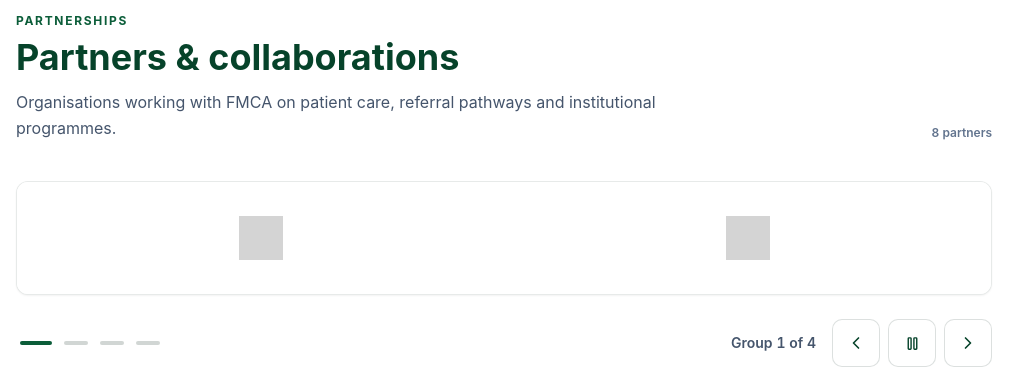
partners home section › reclaims the group index when a wider viewport leaves fewer groups
Expected: the text "Group 1 of 4" is shown, [731, 333, 816, 353]
Click the button named "Next partner group": [968, 343] box [944, 319, 992, 367]
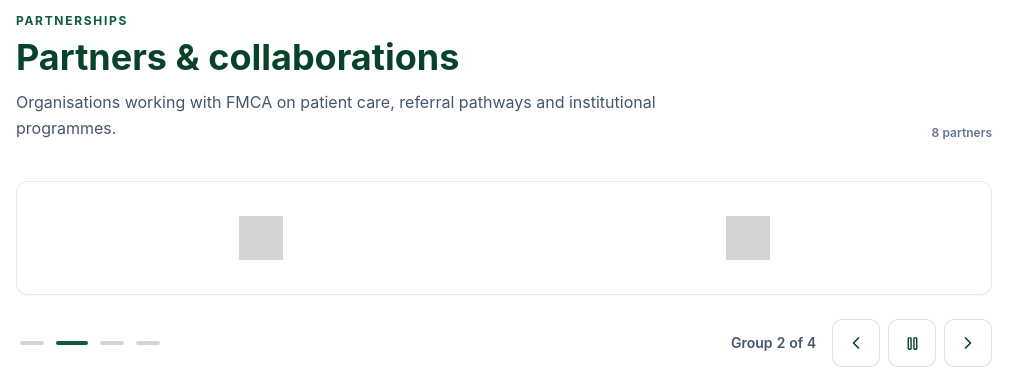
Click the button named "Next partner group": [968, 343] box [944, 319, 992, 367]
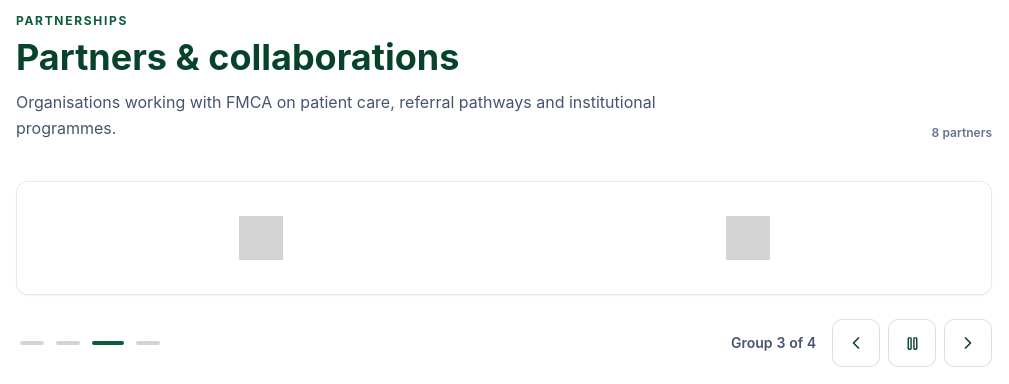
Click the button named "Next partner group": [968, 343] box [944, 319, 992, 367]
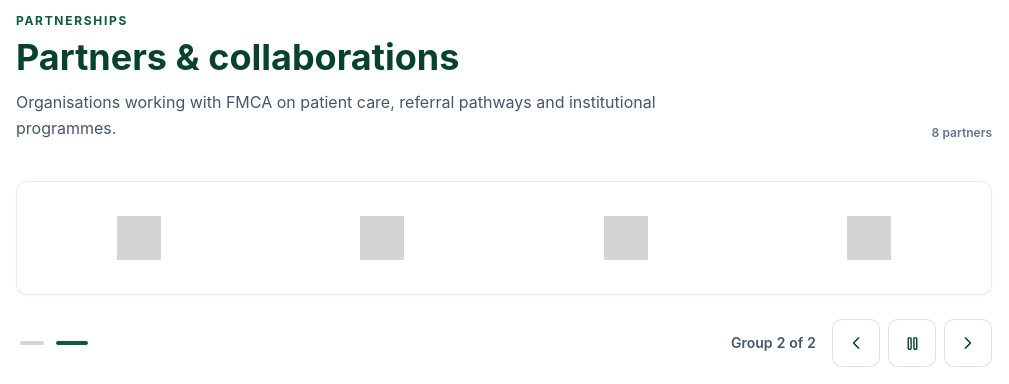
Result: the text "Group 2 of 2" is shown at [731, 333, 816, 353]
